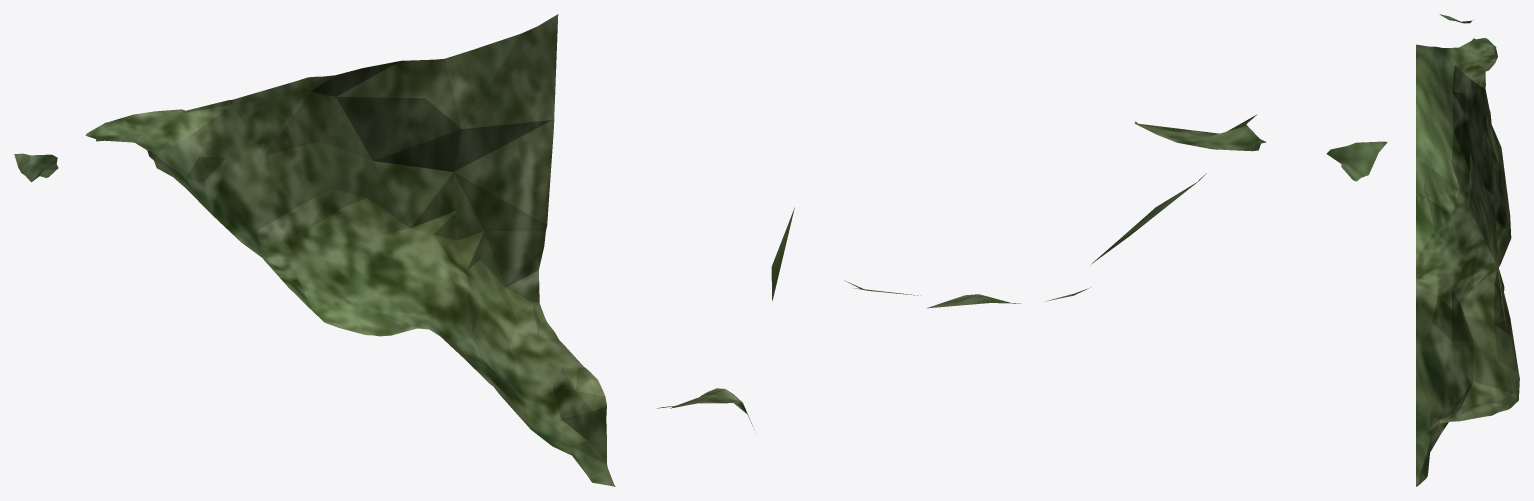
3 views of the same model, side by side, from view 1: azimuth 30°, elevation 25°; view 2: azimuth 150°, elevation 25°; view 3: azimuth 270°, elevation 25° (orthographic). The views are drawn at different scales.
Size of the model in its own units: 2.95 by 2.2 by 0.7118.
1 material, 1 textured.
